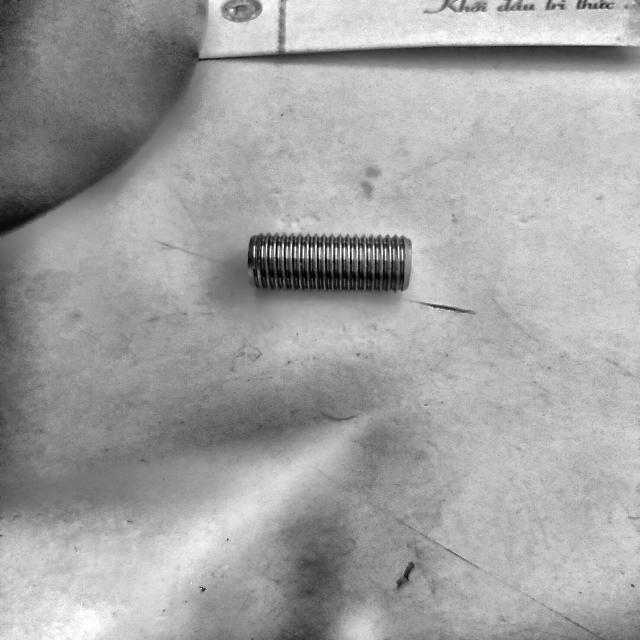Normal: (245, 231, 414, 294)
